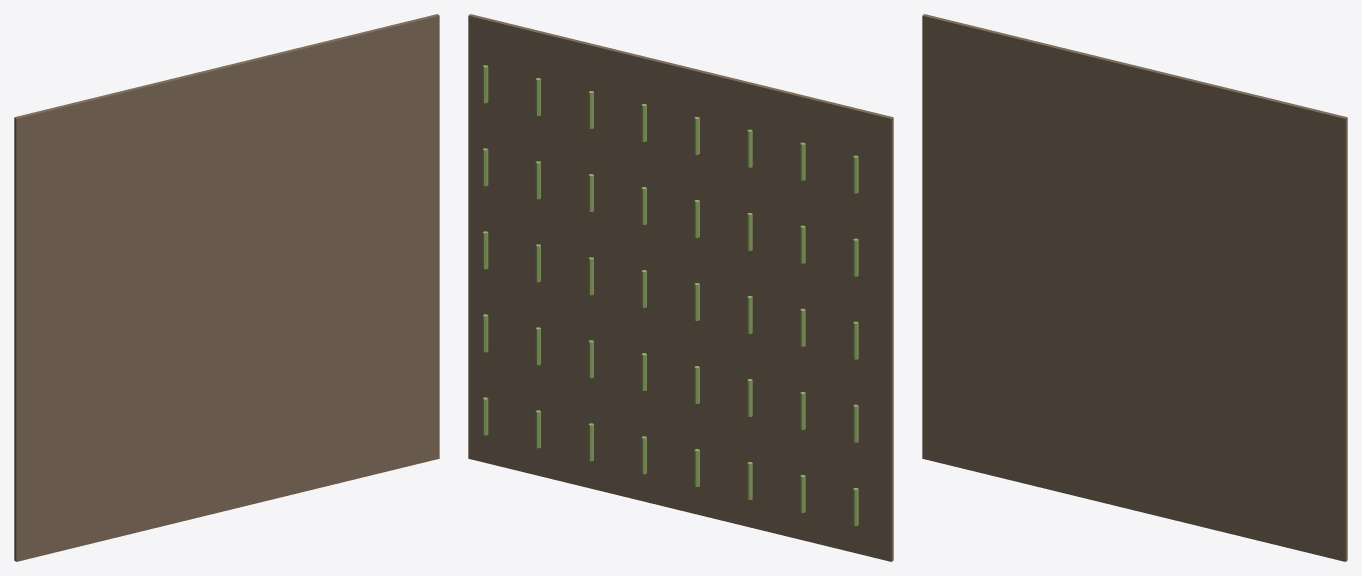
File: crop_field.glb
3 renders of one model, left to right at view 1: azimuth 30°, elevation 25°; view 2: azimuth 150°, elevation 25°; view 3: azimuth 330°, elevation 25°, orthographic.
Visible parts, largest first — view 1: Farmland_Crop_Parcels; view 2: Farmland_Crop_Parcels; view 3: Farmland_Crop_Parcels.
Boxes of the visible parts, bbox=[...] form: Farmland_Crop_Parcels: bbox=[14, 14, 439, 561]; Farmland_Crop_Parcels: bbox=[468, 14, 893, 561]; Farmland_Crop_Parcels: bbox=[922, 14, 1347, 561].
Size of the model in its own units: 32 by 32 by 1.68.
